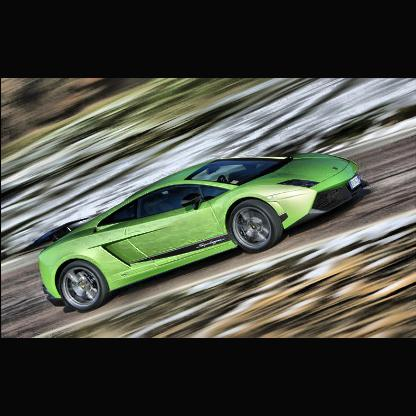Lamborghini Gallardo LP 570-4 Superleggera 2012: (31, 153, 371, 314)
